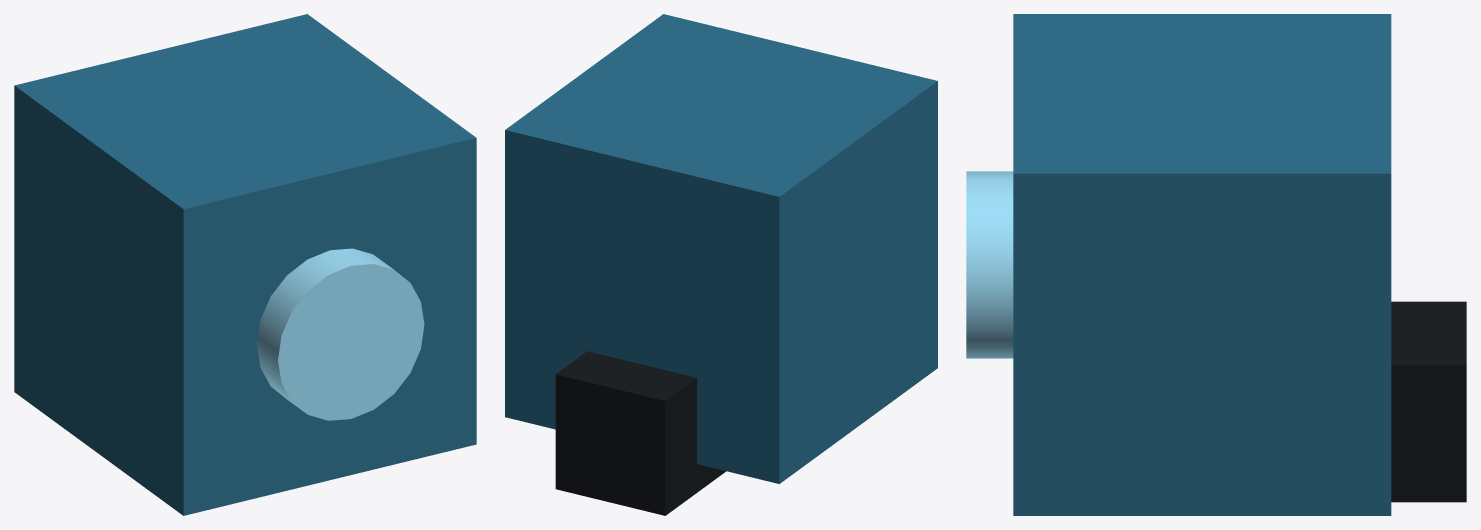
3 renders of one model, left to right at view 1: azimuth 30°, elevation 25°; view 2: azimuth 150°, elevation 25°; view 3: azimuth 270°, elevation 25°, orthographic. The views are drawn at different scales.
Visible parts, largest first — view 1: body, lens; view 2: body, bracket; view 3: body, bracket, lens.
Part boxes in pixels (x1,y1,x2,y2): body: [14, 14, 476, 515]; lens: [257, 248, 424, 420]; body: [505, 14, 937, 483]; bracket: [555, 351, 726, 515]; body: [1013, 14, 1391, 515]; bracket: [1391, 301, 1466, 502]; lens: [966, 171, 1013, 358].
Size of the model in its own units: 0.1 by 0.11 by 0.1325.
